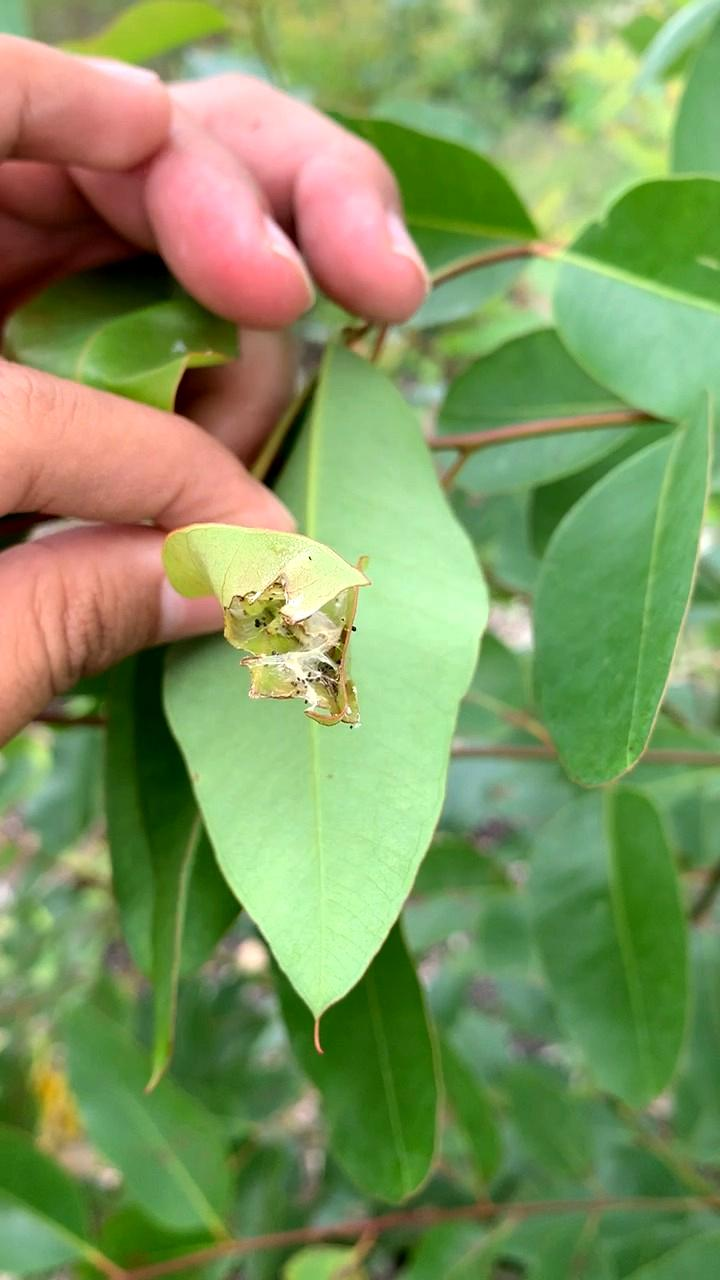Leaf Roller - Leaf: (151, 500, 406, 743)
